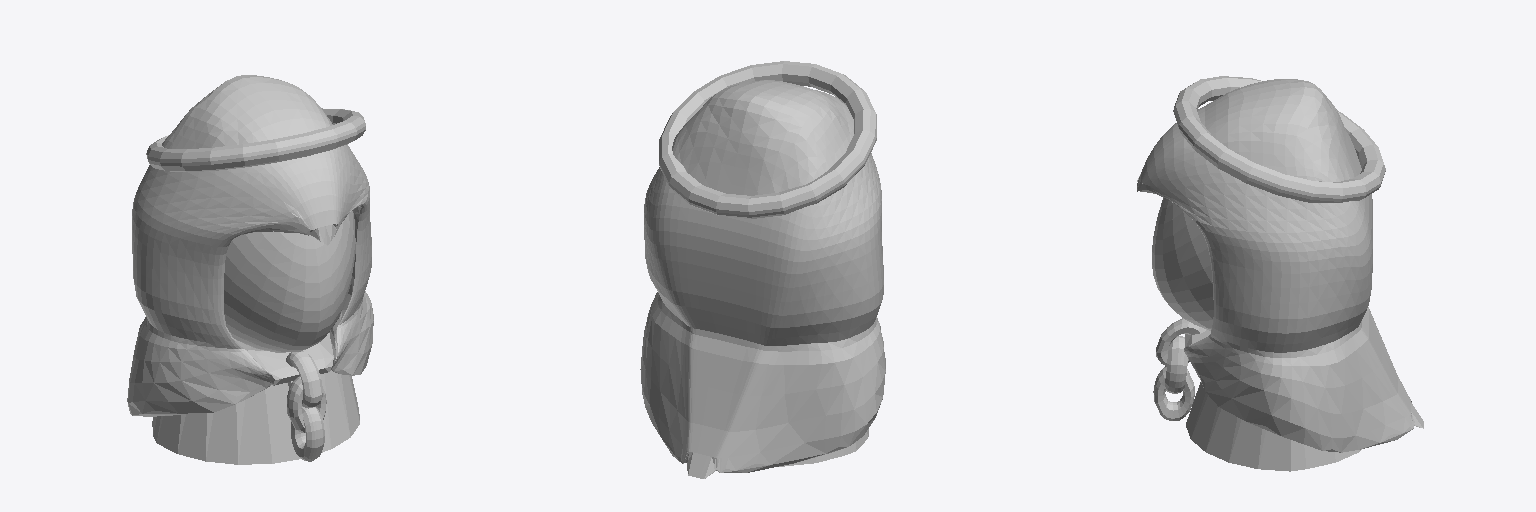
Rendered from enemyFull.obj.
3 views of the same model, side by side, from view 1: azimuth 30°, elevation 25°; view 2: azimuth 150°, elevation 25°; view 3: azimuth 270°, elevation 25° (orthographic).
Visible parts, largest first — view 1: polySurface1; view 2: polySurface1; view 3: polySurface1.
Part boxes in pixels (x1,y1,x2,y2): polySurface1: (127, 75, 373, 464); polySurface1: (640, 61, 885, 478); polySurface1: (1137, 76, 1423, 471).
Size of the model in its own units: 6.82 by 9.49 by 7.32.